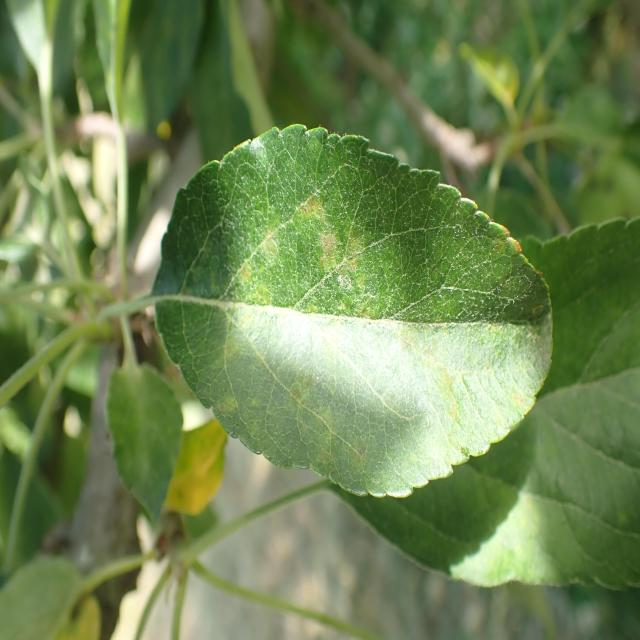scab: (160, 160, 552, 496)
